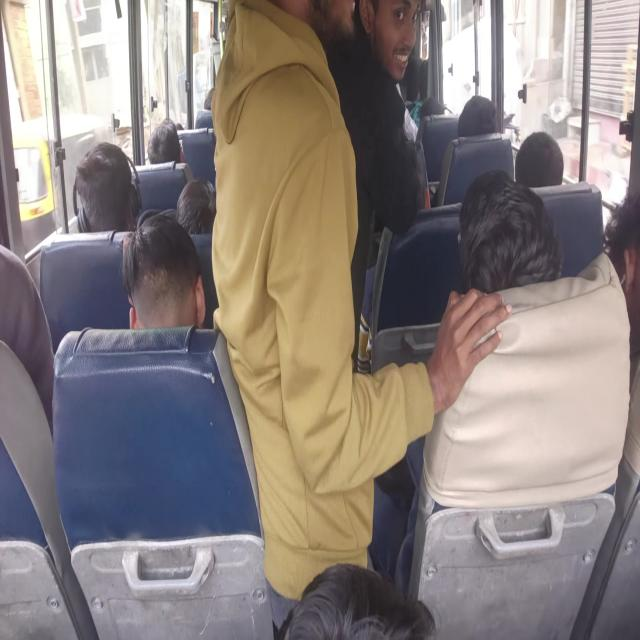person: (351, 0, 427, 227), (214, 3, 327, 147), (456, 172, 563, 300), (0, 238, 56, 433), (286, 562, 423, 638), (605, 179, 640, 475), (121, 214, 206, 331), (434, 97, 512, 208), (76, 150, 143, 230), (514, 130, 565, 190), (175, 178, 216, 235), (457, 94, 499, 138), (146, 119, 184, 166), (203, 87, 215, 111)
